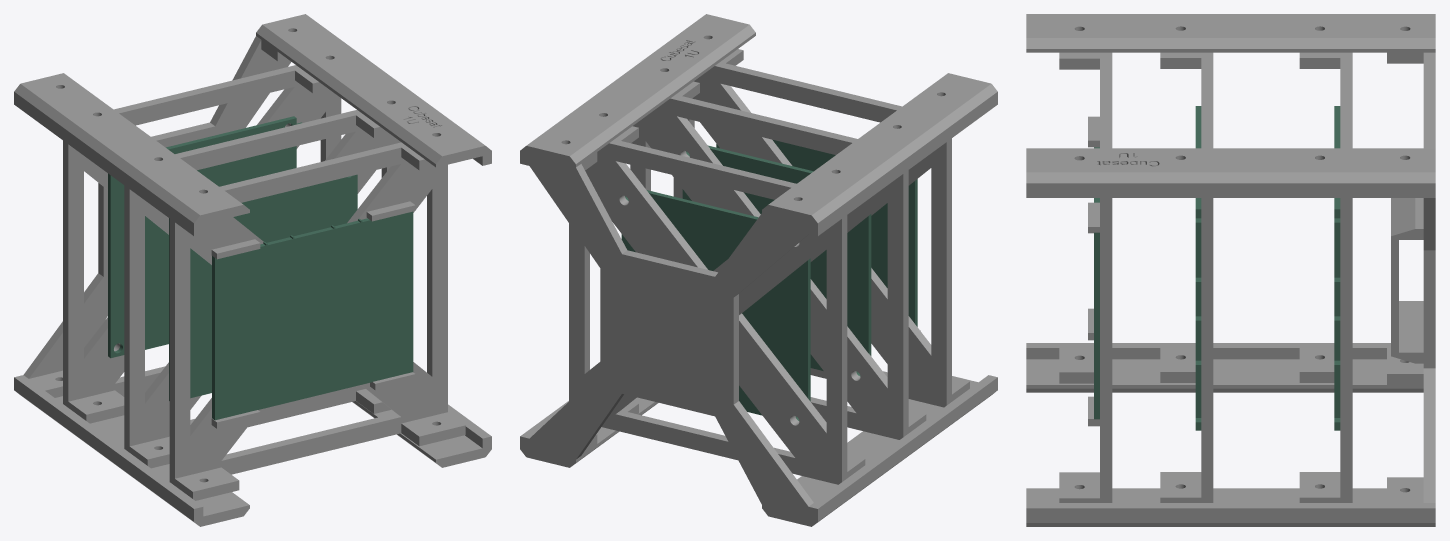
The model's file is cubsat.glb.
The picture shows the model from 3 angles, left to right: view 1: azimuth 30°, elevation 25°; view 2: azimuth 150°, elevation 25°; view 3: azimuth 270°, elevation 25°; orthographic projection. The views are drawn at different scales.
Parts seen in each view (by area): view 1: empty_9, empty_10, empty_2, empty_12, empty_5, empty_4, empty_8, empty_13, empty_7, empty_6, empty_3; view 2: empty_7, empty_2, empty_12, empty_10, empty_5, empty_4, empty_8, empty_6, empty_13, empty_9, empty_3; view 3: empty_4, empty_5, empty_3, empty_6, empty_10, empty_7, empty_2, empty_12, empty_11, empty_8, empty_13, empty_9.
Part boxes in pixels (<box>): empty_9: <box>212,211,413,420</box>; empty_10: <box>169,142,465,500</box>; empty_2: <box>63,65,341,423</box>; empty_12: <box>124,110,400,468</box>; empty_5: <box>19,77,249,236</box>; empty_4: <box>261,18,491,167</box>; empty_8: <box>108,116,301,358</box>; empty_13: <box>169,174,357,400</box>; empty_7: <box>14,14,310,397</box>; empty_6: <box>19,379,249,526</box>; empty_3: <box>352,401,491,467</box>; empty_7: <box>520,142,829,526</box>; empty_2: <box>569,126,865,484</box>; empty_12: <box>630,81,926,439</box>; empty_10: <box>673,49,969,407</box>; empty_5: <box>774,73,997,231</box>; empty_4: <box>532,14,755,163</box>; empty_8: <box>621,190,810,420</box>; empty_6: <box>797,375,997,521</box>; empty_13: <box>682,145,871,376</box>; empty_9: <box>716,139,917,326</box>; empty_3: <box>526,397,658,462</box>; empty_4: <box>1026,148,1423,197</box>; empty_5: <box>1026,14,1423,52</box>; empty_3: <box>1026,488,1423,526</box>; empty_6: <box>1026,343,1423,392</box>; empty_10: <box>1059,52,1112,502</box>; empty_7: <box>1387,14,1435,526</box>; empty_2: <box>1299,52,1352,502</box>; empty_12: <box>1160,52,1213,502</box>; empty_11: <box>1391,198,1423,363</box>; empty_8: <box>1334,106,1340,430</box>; empty_13: <box>1195,106,1201,430</box>; empty_9: <box>1094,147,1099,419</box>.
Bounding box in the file's own units: 96 × 96 × 101.
